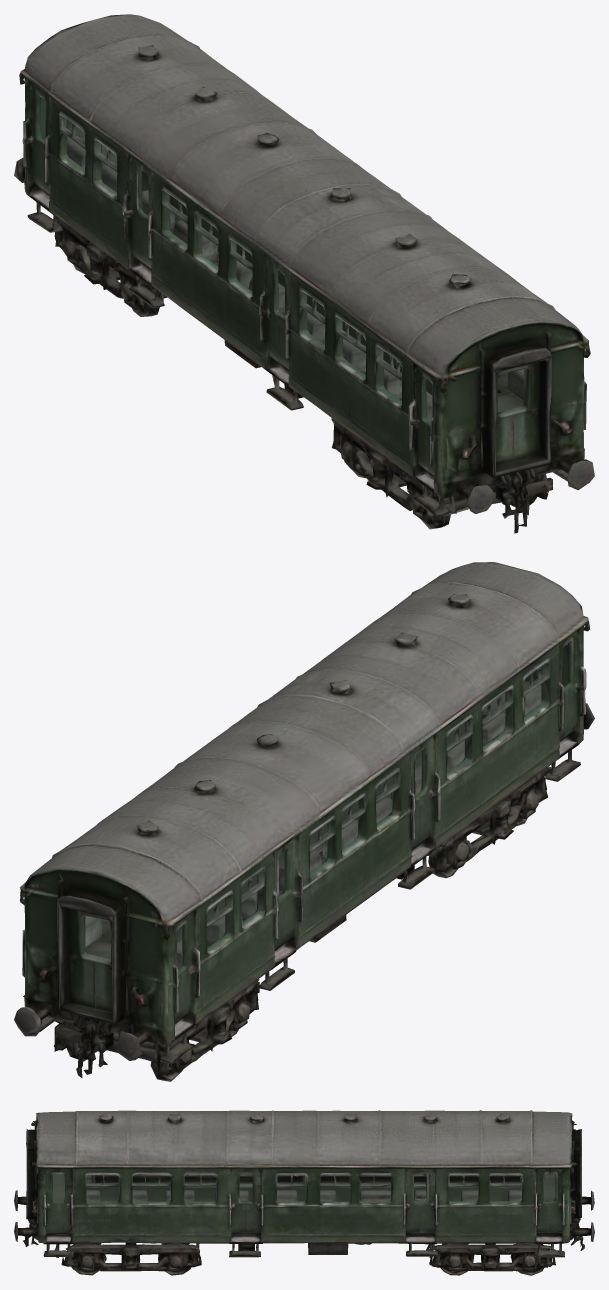
The model's file is prop_coach.glb.
3 renders of one model, top to bottom at view 1: azimuth 30°, elevation 25°; view 2: azimuth 150°, elevation 25°; view 3: azimuth 270°, elevation 25°, orthographic. The views are drawn at different scales.
Visible parts, largest first — view 1: tripo_node_78625224-4498-4413-8b7c-a1723611dc3d; view 2: tripo_node_78625224-4498-4413-8b7c-a1723611dc3d; view 3: tripo_node_78625224-4498-4413-8b7c-a1723611dc3d.
Boxes of the visible parts, x1,y1,x2,y2 form: tripo_node_78625224-4498-4413-8b7c-a1723611dc3d: (14, 14, 594, 533); tripo_node_78625224-4498-4413-8b7c-a1723611dc3d: (14, 562, 594, 1081); tripo_node_78625224-4498-4413-8b7c-a1723611dc3d: (14, 1110, 594, 1275).
Bounding box in the file's own units: 0.194 × 0.2692 × 0.9795.
1 material, 1 textured.
